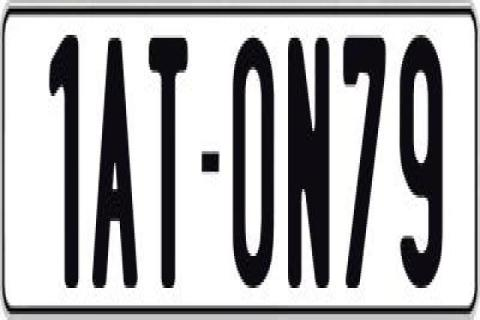0: (396, 32, 440, 300), (342, 32, 386, 288), (231, 32, 275, 285), (46, 29, 78, 294)
A: (92, 38, 140, 288)
N: (288, 32, 334, 285)
T: (146, 38, 186, 291)
